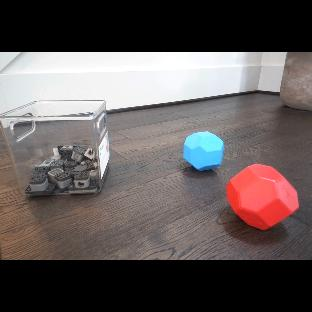V5_BLUE: (184, 131, 225, 171)
V5_RED: (226, 164, 300, 231)
